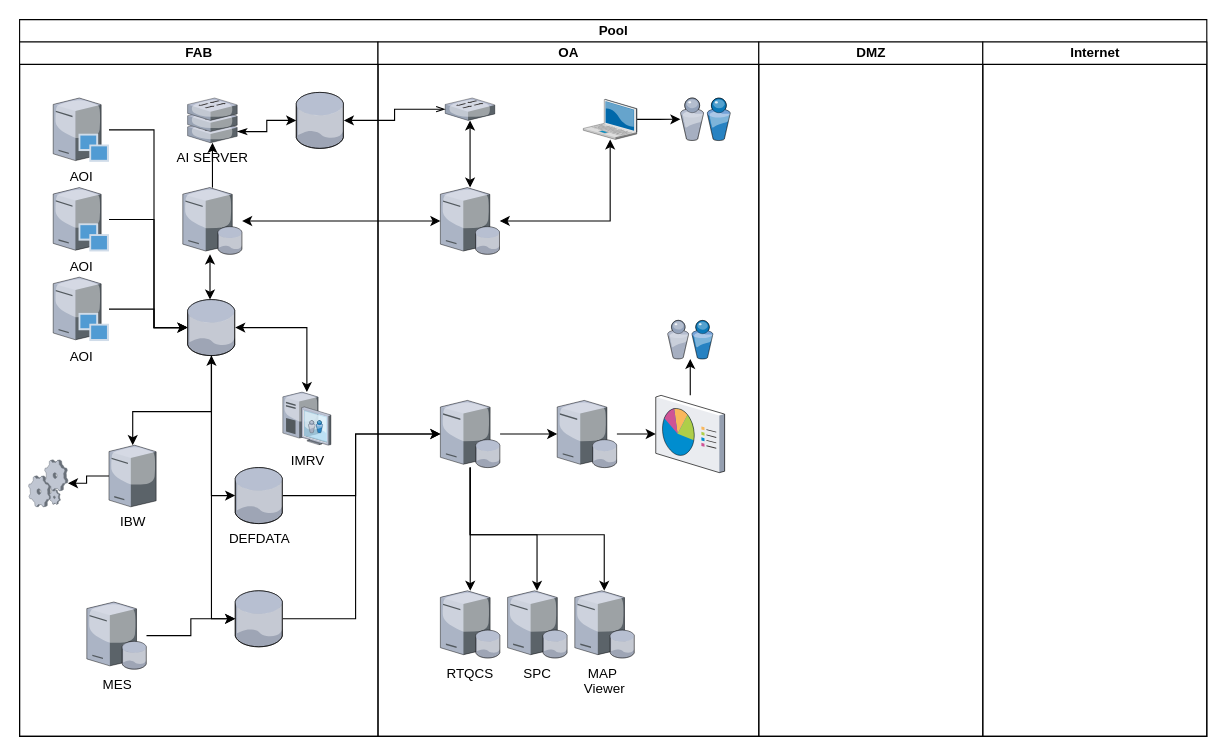
Image size: 1226x756. Some labels were removed from this diagram. The shapes that lost their labels are listed below. From the top down, each one's centre as x and y in pixels, then its label:
At pixel 319 120: "AI MODEL DB".
At pixel 469 108: "TRAINING SERVER".
At pixel 212 220: "AI LOADER".
At pixel 469 220: "AI ADMIN SERVER".
At pixel 211 327: "DEFECT FILE SERVER".
At pixel 470 433: "QC Report".
At pixel 586 433: "SONAR".
At pixel 258 618: "MES DB".
